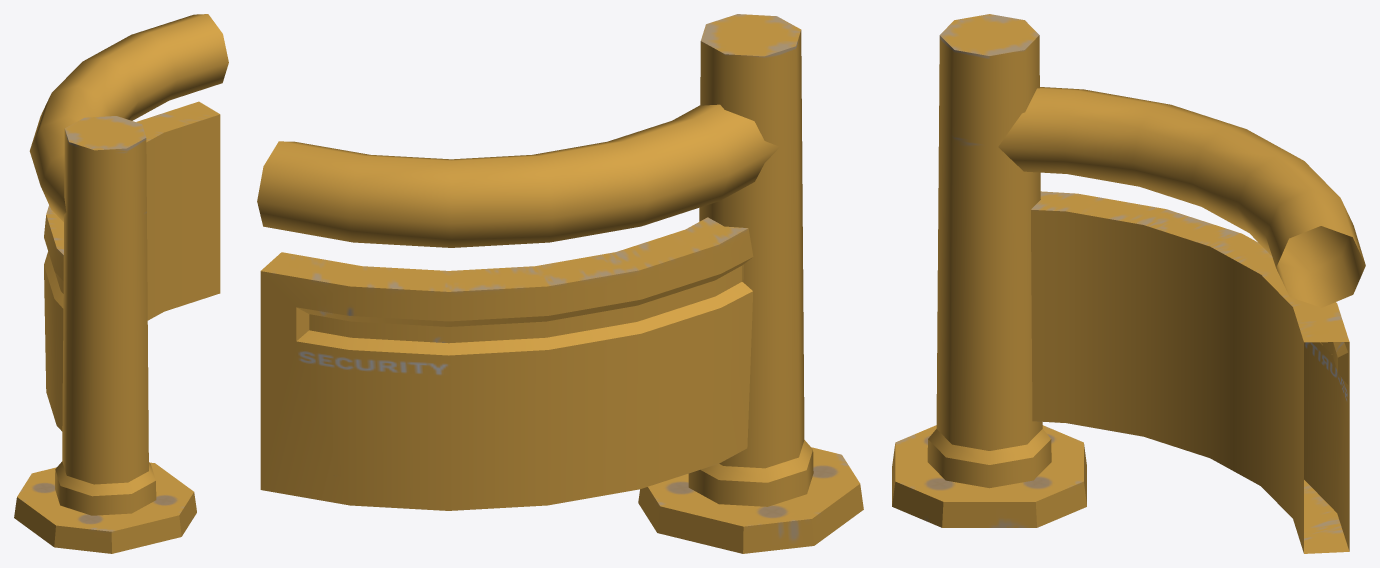
The model's file is Pfb_Factory_Fence.fbx.
3 views of the same model, side by side, from view 1: azimuth 30°, elevation 25°; view 2: azimuth 150°, elevation 25°; view 3: azimuth 270°, elevation 25° (orthographic). The views are drawn at different scales.
Parts seen in each view (by area): view 1: MAT_Soda_Pipe 1; view 2: MAT_Soda_Pipe 1; view 3: MAT_Soda_Pipe 1.
Part boxes in pixels (x1,y1,x2,y2): MAT_Soda_Pipe 1: (14,14,228,553); MAT_Soda_Pipe 1: (257,14,863,553); MAT_Soda_Pipe 1: (892,14,1365,553).
Bounding box in the file's own units: 0.711 × 0.8132 × 0.7731.
1 material, 1 textured.
